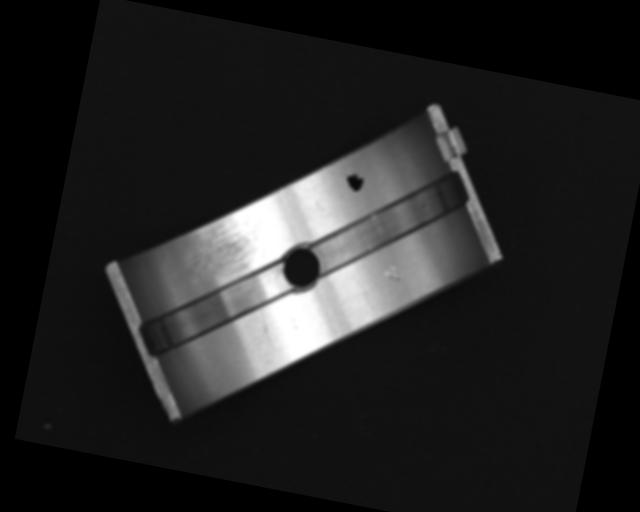blot: (342, 169, 366, 193)
bruise: (382, 263, 405, 284)
gap: (308, 152, 466, 293), (134, 248, 288, 380)
hole: (276, 242, 326, 293)
nick: (253, 306, 279, 355), (350, 278, 379, 309)
scratch: (178, 202, 270, 287)
